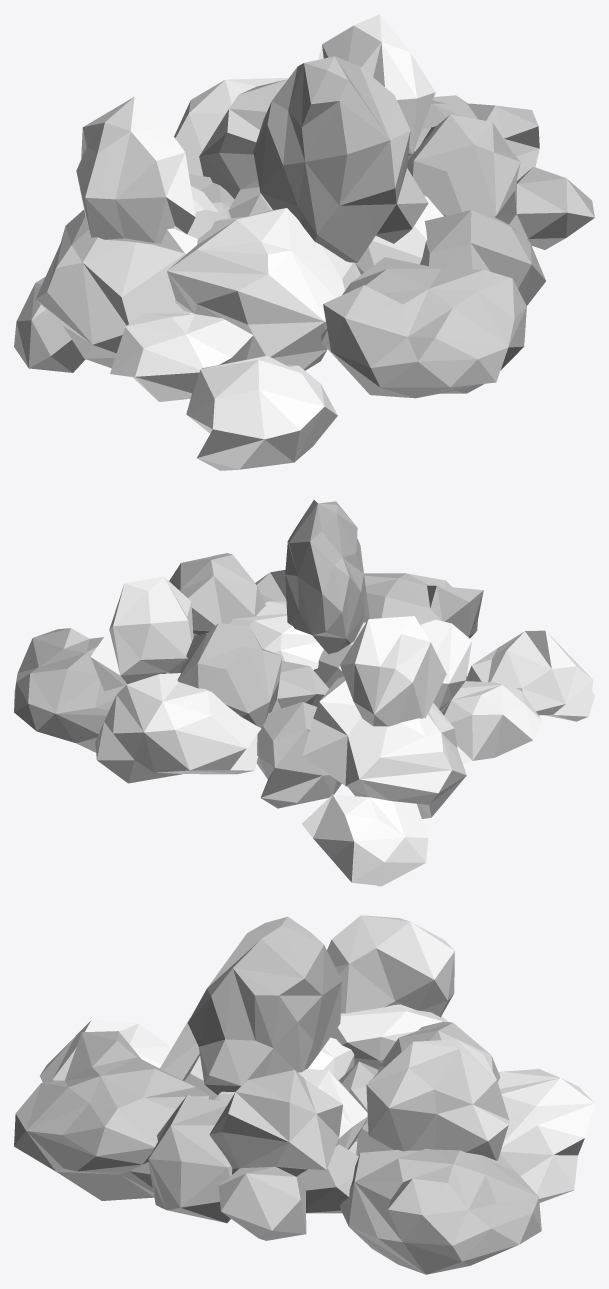
File: ancient_SM_Env_Bush_Cluster_02.gltf
The picture shows the model from 3 angles, top to bottom: view 1: azimuth 30°, elevation 25°; view 2: azimuth 150°, elevation 25°; view 3: azimuth 270°, elevation 25°; orthographic projection. The views are drawn at different scales.
Parts seen in each view (by area): view 1: SM_Env_Bush_Cluster_02; view 2: SM_Env_Bush_Cluster_02; view 3: SM_Env_Bush_Cluster_02.
Boxes of the visible parts, left/top/right/bottom form: SM_Env_Bush_Cluster_02: left=14, top=14, right=594, bottom=470; SM_Env_Bush_Cluster_02: left=14, top=500, right=594, bottom=886; SM_Env_Bush_Cluster_02: left=14, top=915, right=594, bottom=1274.
Size of the model in its own units: 9.81 by 6.24 by 10.16.
1 material, 1 textured.
